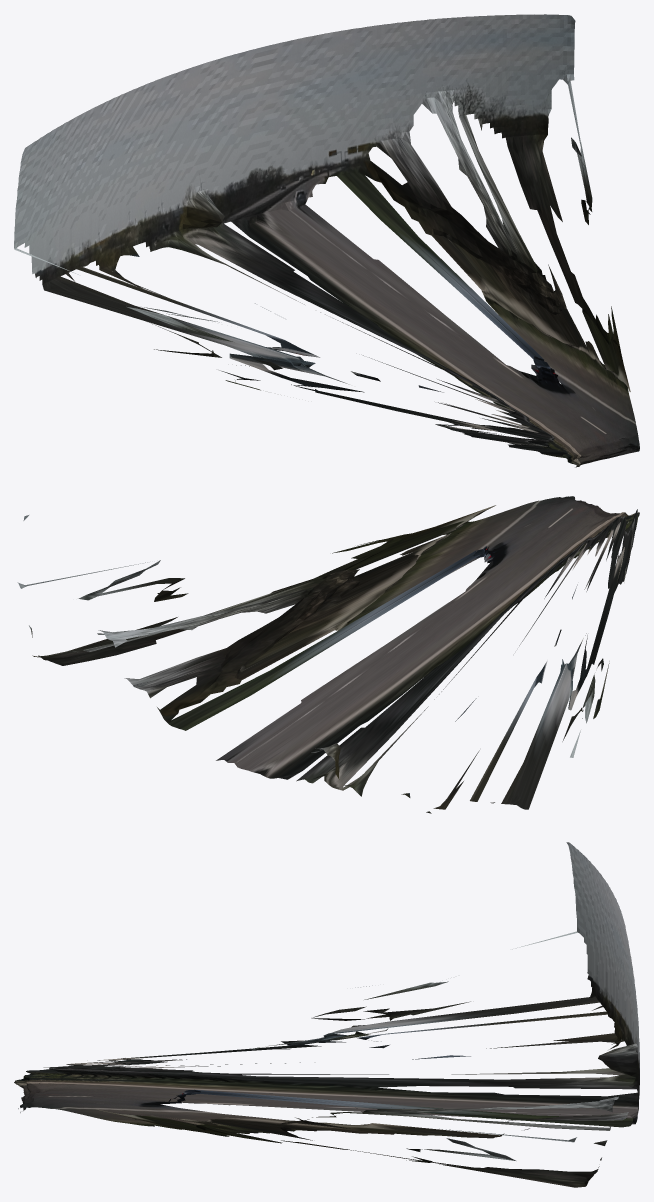
3 views of the same model, one above another, from view 1: azimuth 30°, elevation 25°; view 2: azimuth 150°, elevation 25°; view 3: azimuth 270°, elevation 25° (orthographic). The views are drawn at different scales.
Visible parts, largest first — view 1: defaultobject; view 2: defaultobject; view 3: defaultobject.
Boxes of the visible parts, box(x1,y1,x2,y2) form: defaultobject: box(14, 14, 639, 467); defaultobject: box(17, 496, 639, 813); defaultobject: box(14, 842, 639, 1187).
Bounding box in the file's own units: 41.08 × 13.07 × 44.61.
1 material, 1 textured.
